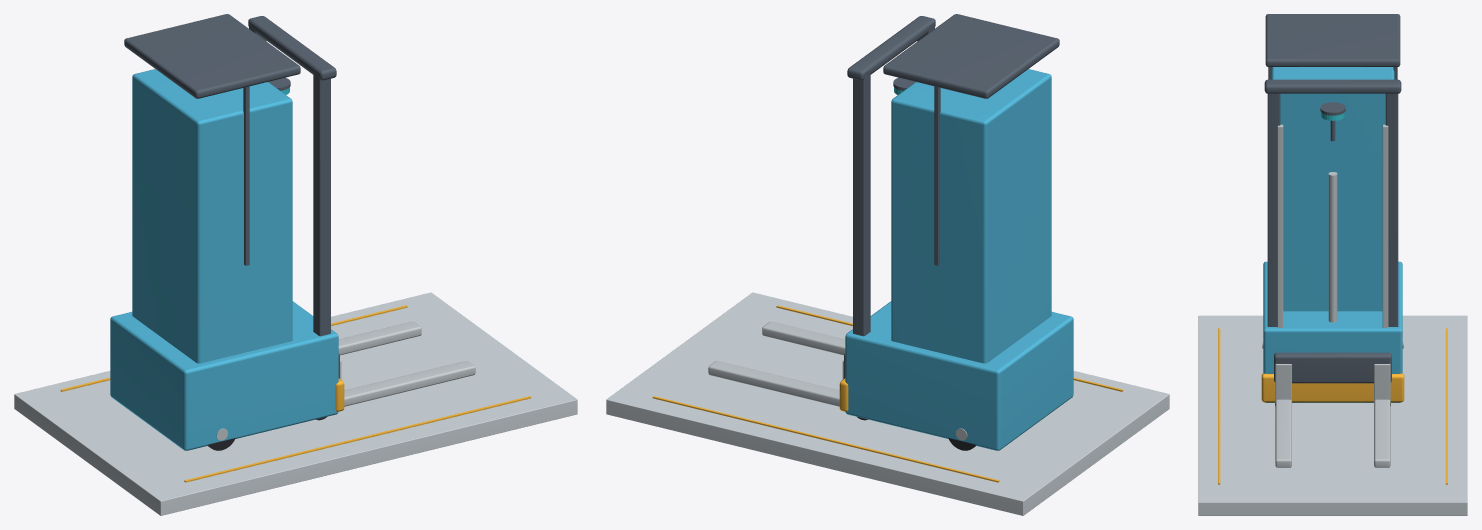
3 renders of one model, left to right at view 1: azimuth 30°, elevation 25°; view 2: azimuth 150°, elevation 25°; view 3: azimuth 270°, elevation 25°, orthographic. The views are drawn at different scales.
Visible parts, largest first — view 1: Ground plane, Operator compartment and guard, Power unit, Overhead guard, Lift mast outer rail, Fork tine / pallet handling, Mast crosshead, Fork tine / pallet handling.001, Concept clearance guide, Overhead guard upright; view 2: Ground plane, Operator compartment and guard, Power unit, Overhead guard, Lift mast outer rail.001, Fork tine / pallet handling.001, Mast crosshead, Fork tine / pallet handling, Concept clearance guide.001, Overhead guard upright.001; view 3: Ground plane, Operator compartment and guard, Overhead guard, Power unit, Fork carriage, Lift mast outer rail, Lift mast outer rail.001, Front safety bumper, Mast crosshead, Hydraulic lift cylinder, Lift mast inner rail, Lift mast inner rail.001 (+6 smaller).
Boxes of the visible parts, bbox=[...] form: Ground plane: bbox=[14, 292, 577, 515]; Operator compartment and guard: bbox=[132, 69, 292, 363]; Power unit: bbox=[110, 301, 338, 450]; Overhead guard: bbox=[124, 14, 300, 98]; Lift mast outer rail: bbox=[313, 68, 330, 336]; Fork tine / pallet handling: bbox=[344, 361, 475, 406]; Mast crosshead: bbox=[248, 16, 336, 80]; Fork tine / pallet handling.001: bbox=[338, 321, 421, 355]; Concept clearance guide: bbox=[184, 396, 531, 482]; Overhead guard upright: bbox=[243, 86, 249, 265]; Ground plane: bbox=[606, 292, 1169, 515]; Operator compartment and guard: bbox=[891, 69, 1051, 363]; Power unit: bbox=[845, 301, 1073, 450]; Overhead guard: bbox=[883, 14, 1059, 98]; Lift mast outer rail.001: bbox=[853, 68, 870, 336]; Fork tine / pallet handling.001: bbox=[708, 361, 839, 406]; Mast crosshead: bbox=[847, 16, 935, 80]; Fork tine / pallet handling: bbox=[762, 321, 845, 355]; Concept clearance guide.001: bbox=[652, 396, 999, 482]; Overhead guard upright.001: bbox=[934, 86, 940, 265]; Ground plane: bbox=[1198, 315, 1467, 515]; Operator compartment and guard: bbox=[1271, 67, 1394, 311]; Overhead guard: bbox=[1265, 14, 1400, 66]; Power unit: bbox=[1263, 261, 1402, 402]; Fork carriage: bbox=[1274, 352, 1391, 383]; Lift mast outer rail: bbox=[1267, 93, 1280, 326]; Lift mast outer rail.001: bbox=[1385, 93, 1398, 326]; Front safety bumper: bbox=[1261, 373, 1404, 402]; Mast crosshead: bbox=[1264, 79, 1401, 93]; Hydraulic lift cylinder: bbox=[1328, 172, 1337, 322]; Lift mast inner rail: bbox=[1277, 124, 1283, 327]; Lift mast inner rail.001: bbox=[1382, 124, 1388, 327].
Bounding box in the file's own units: 3.5 × 3.05 × 2.13.
